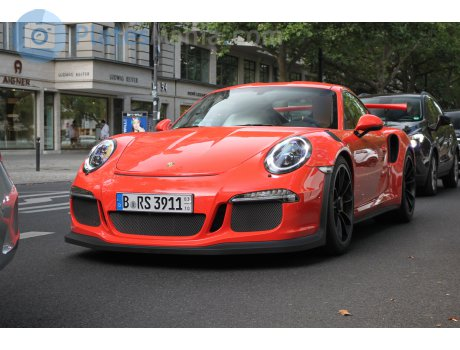License Plates: (123, 188, 184, 209)
